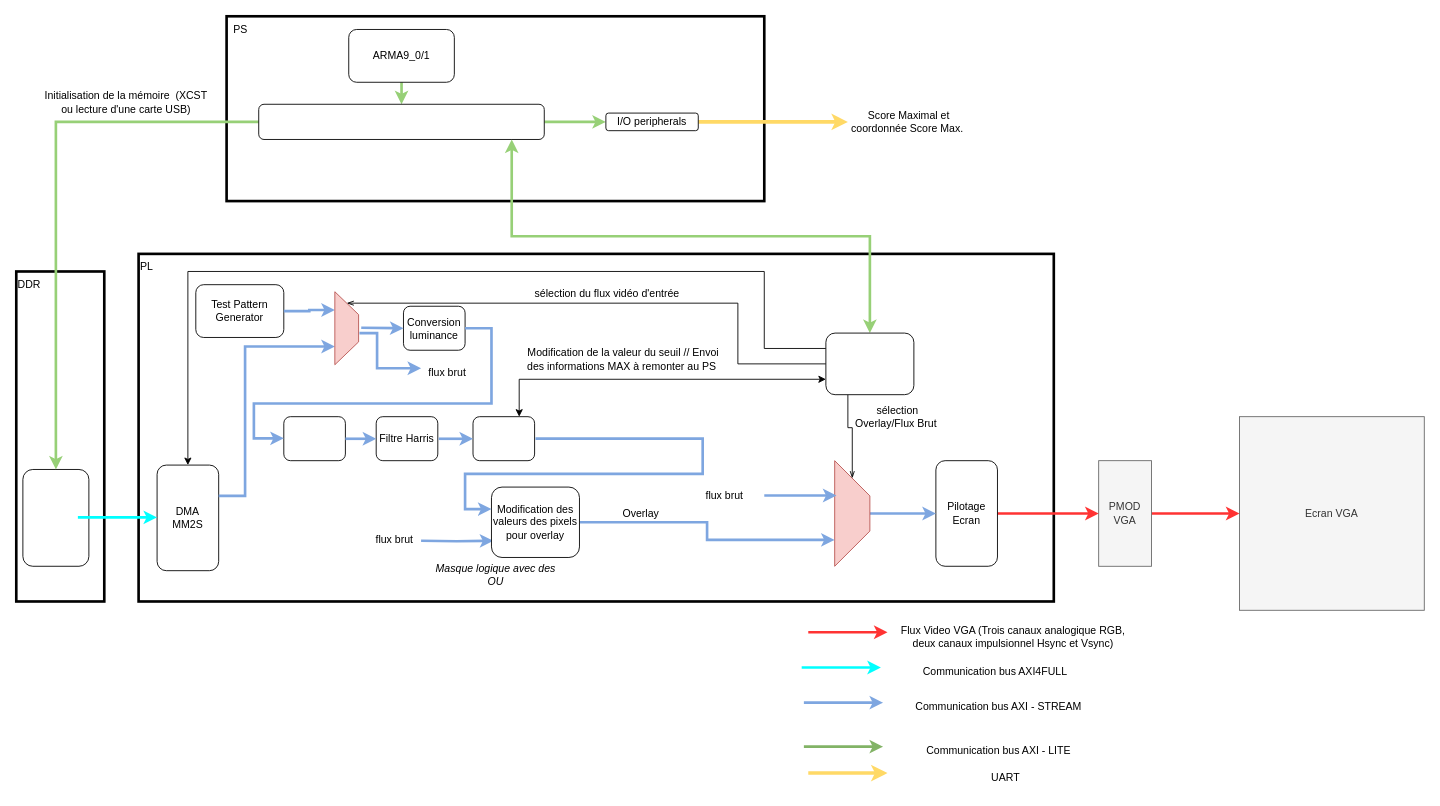
The diagram is 1440 pixels wide and 806 high, and some of its shapes have lost their labels. The shapes that lost their labels are listed below. From the top down, each one's centre as x and y in pixels, then its label:
the point at 401,121: Interconnect
the point at 869,363: Axi4l Reg
the point at 314,438: Filtre Gaussien
the point at 503,438: Seuil
the point at 55,517: Image Bufferisé
